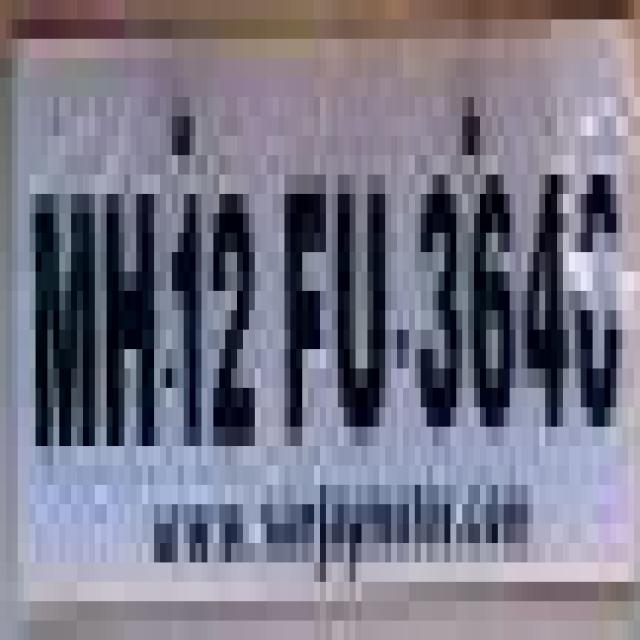license_plate: (6, 19, 610, 602)
